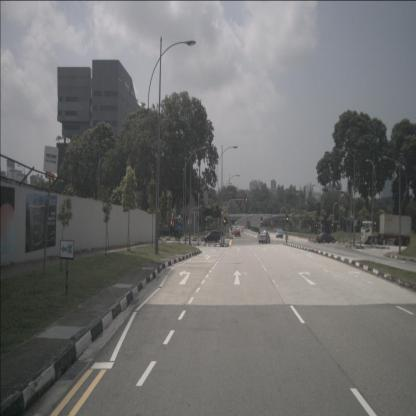vehicle-car: (317, 232, 335, 244), (204, 230, 220, 243), (259, 231, 270, 244), (276, 230, 284, 238), (235, 228, 240, 236), (232, 227, 236, 235)
vehicle-truck: (156, 213, 184, 239), (361, 221, 386, 245)
